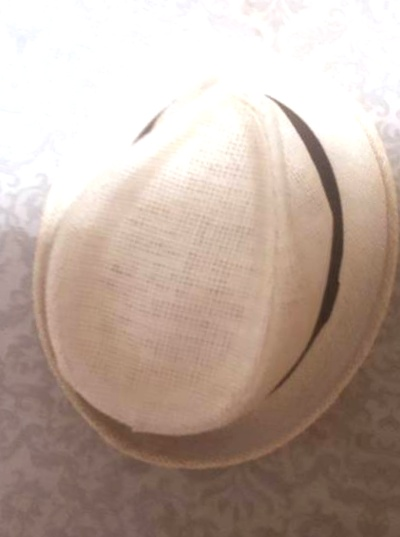Hat: (0, 0, 400, 527), (386, 49, 400, 537), (0, 0, 5, 457)
